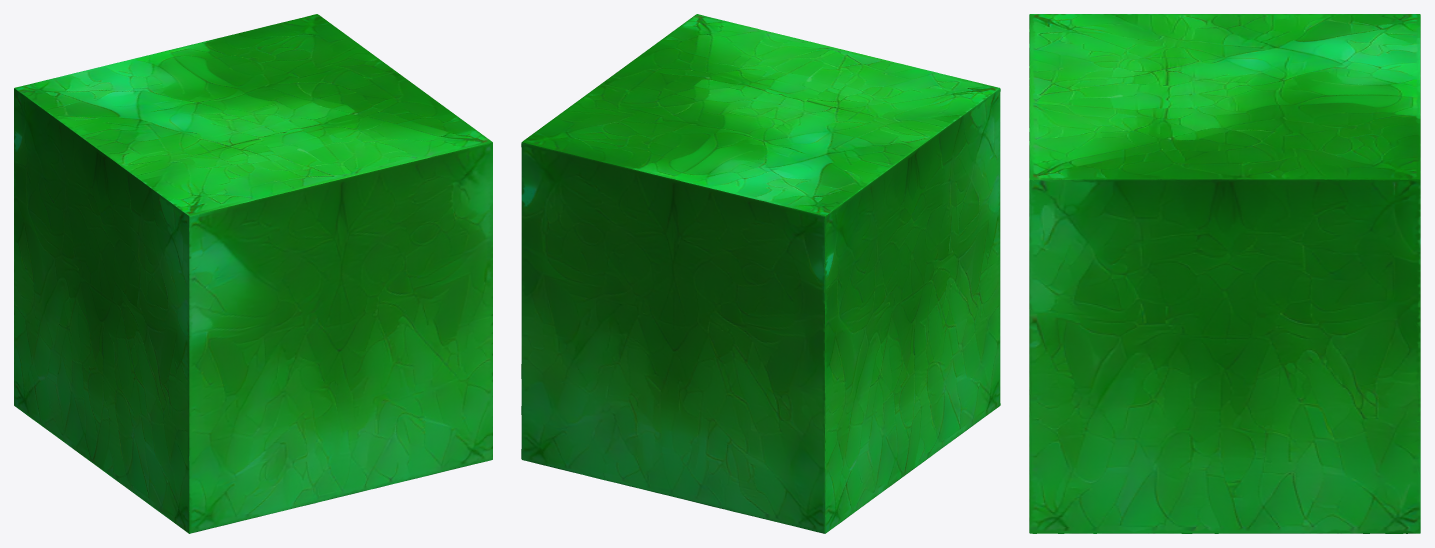
Rendered from vine_ribbon.glb.
3 renders of one model, left to right at view 1: azimuth 30°, elevation 25°; view 2: azimuth 150°, elevation 25°; view 3: azimuth 270°, elevation 25°, orthographic. The views are drawn at different scales.
Visible parts, largest first — view 1: geometry_0; view 2: geometry_0; view 3: geometry_0.
Boxes of the visible parts, box(x1,y1,x2,y2) form: geometry_0: box(14, 14, 492, 533); geometry_0: box(521, 14, 1000, 533); geometry_0: box(1029, 14, 1420, 533).
Size of the model in its own units: 1.97 by 1.97 by 1.97.
1 material, 1 textured.
